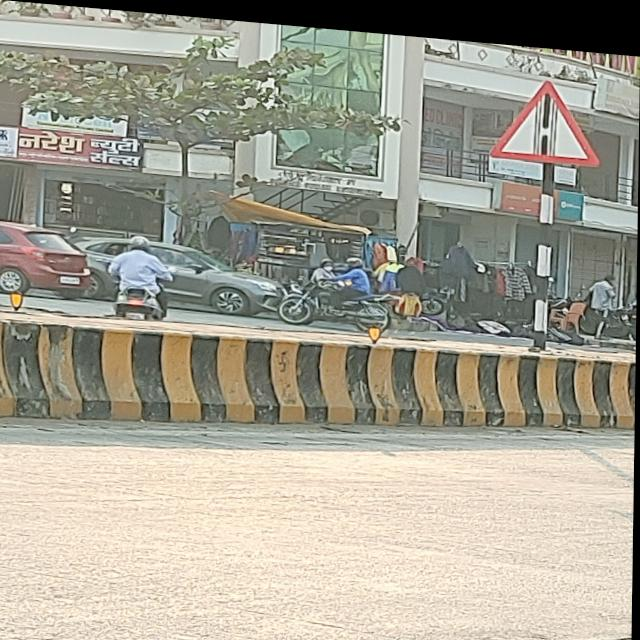GAP_IN_MEDIAN: (486, 64, 606, 160)
